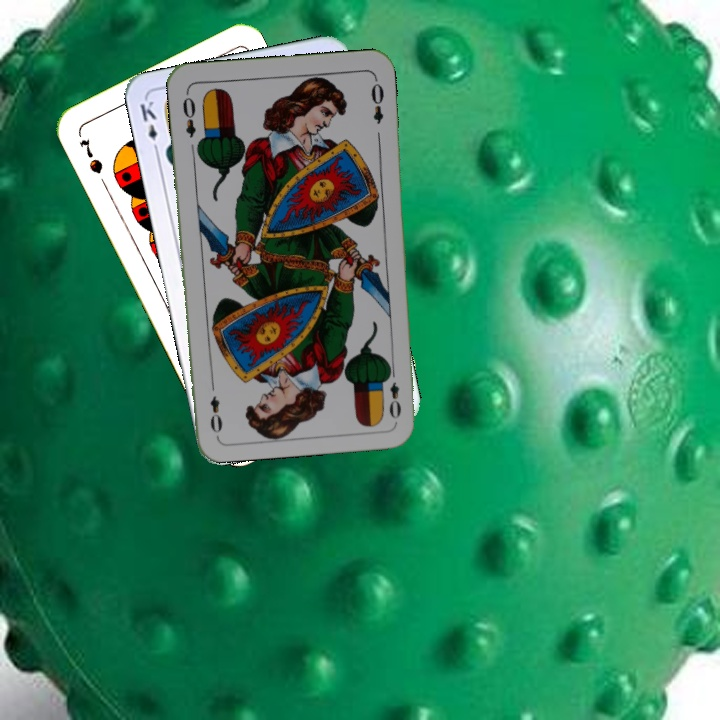EK: (135, 96, 162, 156)
EO: (382, 363, 404, 422), (178, 88, 198, 140)
S7: (75, 135, 106, 177)
